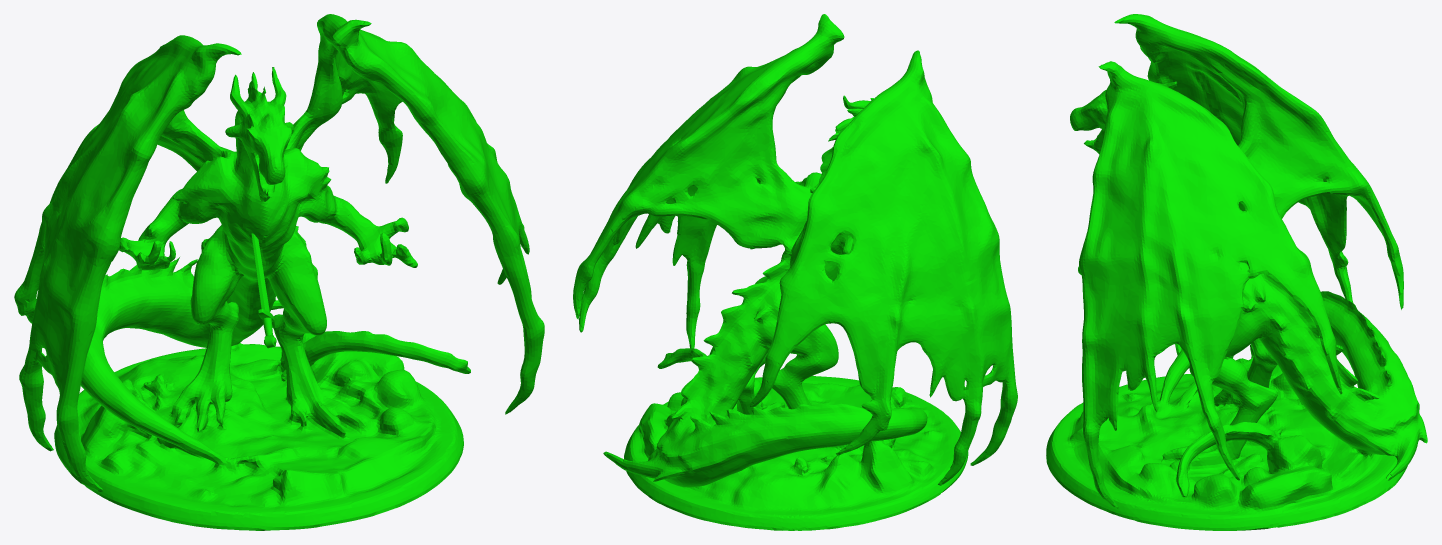
Rendered from dragonCorrecto.glb.
The picture shows the model from 3 angles, left to right: view 1: azimuth 30°, elevation 25°; view 2: azimuth 150°, elevation 25°; view 3: azimuth 270°, elevation 25°; orthographic projection. The views are drawn at different scales.
Parts seen in each view (by area): view 1: Majestic_Guardian_1030065858; view 2: Majestic_Guardian_1030065858; view 3: Majestic_Guardian_1030065858.
Part boxes in pixels (<box>): Majestic_Guardian_1030065858: <box>14,14,544,530</box>; Majestic_Guardian_1030065858: <box>573,14,1017,530</box>; Majestic_Guardian_1030065858: <box>1046,14,1427,530</box>.
Bounding box in the file's own units: 93.88 × 85.51 × 72.56.
